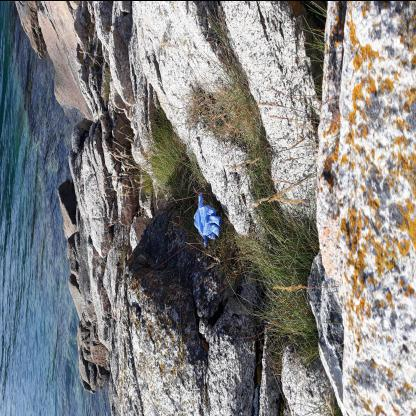plastik: (171, 195, 226, 223)
